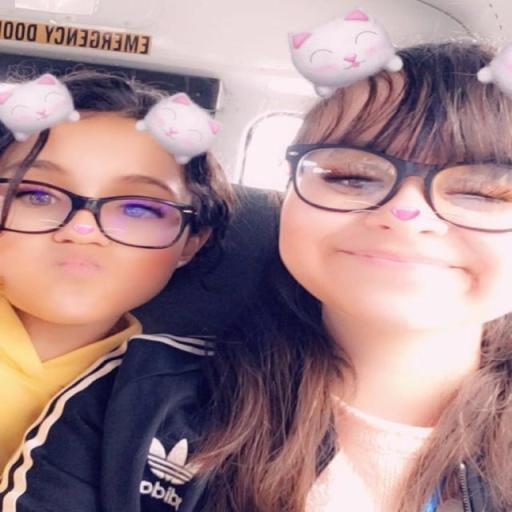Adidas: (136, 432, 201, 508)
